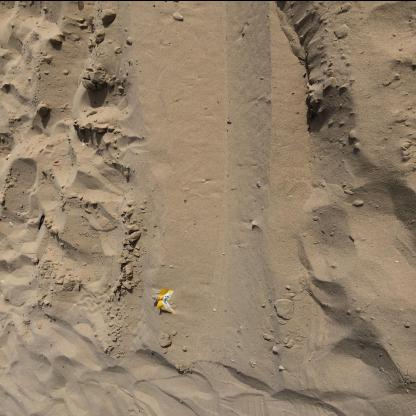plastik: (151, 287, 175, 313)
